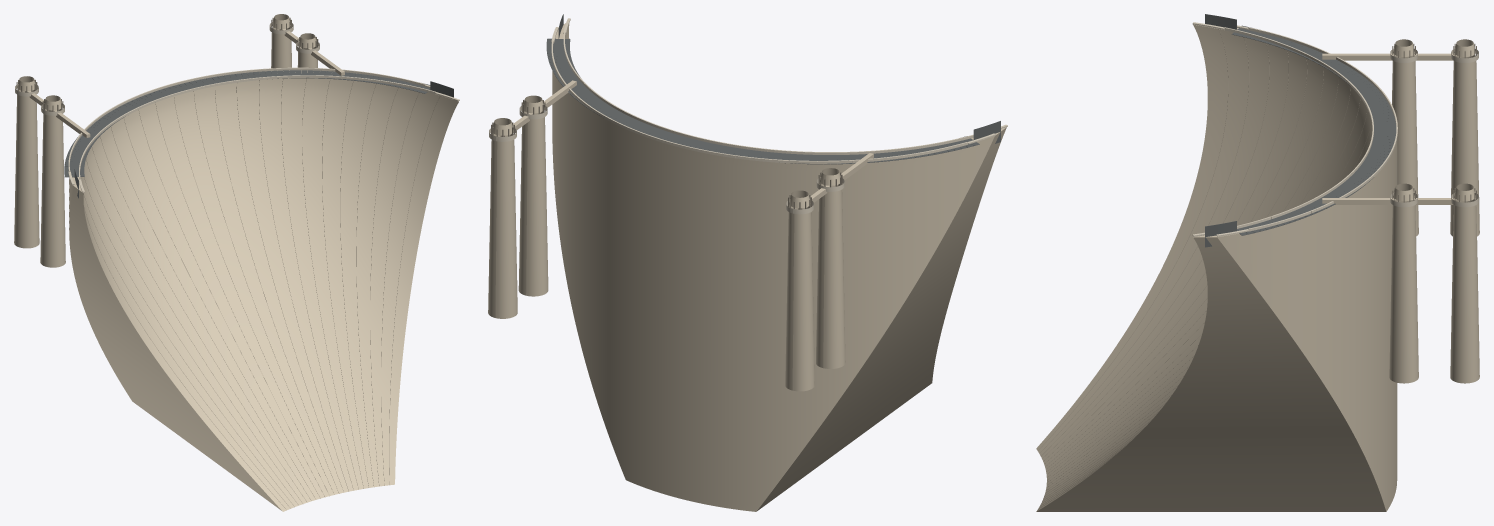
The model's file is earth3d3-hoover-dam.glb.
The picture shows the model from 3 angles, left to right: view 1: azimuth 30°, elevation 25°; view 2: azimuth 150°, elevation 25°; view 3: azimuth 270°, elevation 25°; orthographic projection. The views are drawn at different scales.
Visible parts, largest first — view 1: Downstream face, schematic section, Left abutment, Warm concrete (×2), Construction joint recesses, Crest roadway, Crest parapets; view 2: Upstream face, schematic curvature, Warm concrete (×2), Left abutment, Crest roadway, Crest parapets (×2); view 3: Downstream face, schematic section, Right abutment, Upstream face, schematic curvature, Warm concrete (×2), Crest roadway, Construction joint recesses, Crest parapets (×2).
Part boxes in pixels (left/top/right/bottom): Downstream face, schematic section: left=80, top=78, right=458, bottom=511; Left abutment: left=69, top=186, right=281, bottom=510; Warm concrete (×2): left=14, top=14, right=344, bottom=267; Construction joint recesses: left=16, top=17, right=440, bottom=508; Crest roadway: left=64, top=70, right=453, bottom=198; Crest parapets: left=68, top=67, right=459, bottom=192; Upstream face, schematic curvature: left=552, top=71, right=994, bottom=511; Warm concrete (×2): left=488, top=80, right=873, bottom=391; Left abutment: left=757, top=127, right=1006, bottom=510; Crest roadway: left=546, top=14, right=1000, bottom=164; Crest parapets (×2): left=489, top=18, right=1007, bottom=214; Downstream face, schematic section: left=1036, top=24, right=1372, bottom=511; Right abutment: left=1036, top=237, right=1386, bottom=511; Upstream face, schematic curvature: left=1217, top=139, right=1397, bottom=511; Warm concrete (×2): left=1322, top=39, right=1479, bottom=383; Crest roadway: left=1205, top=14, right=1396, bottom=247; Construction joint recesses: left=1038, top=29, right=1476, bottom=508; Crest parapets (×2): left=1192, top=22, right=1478, bottom=236.
Bounding box in the file's own units: 290 × 231 × 255.
